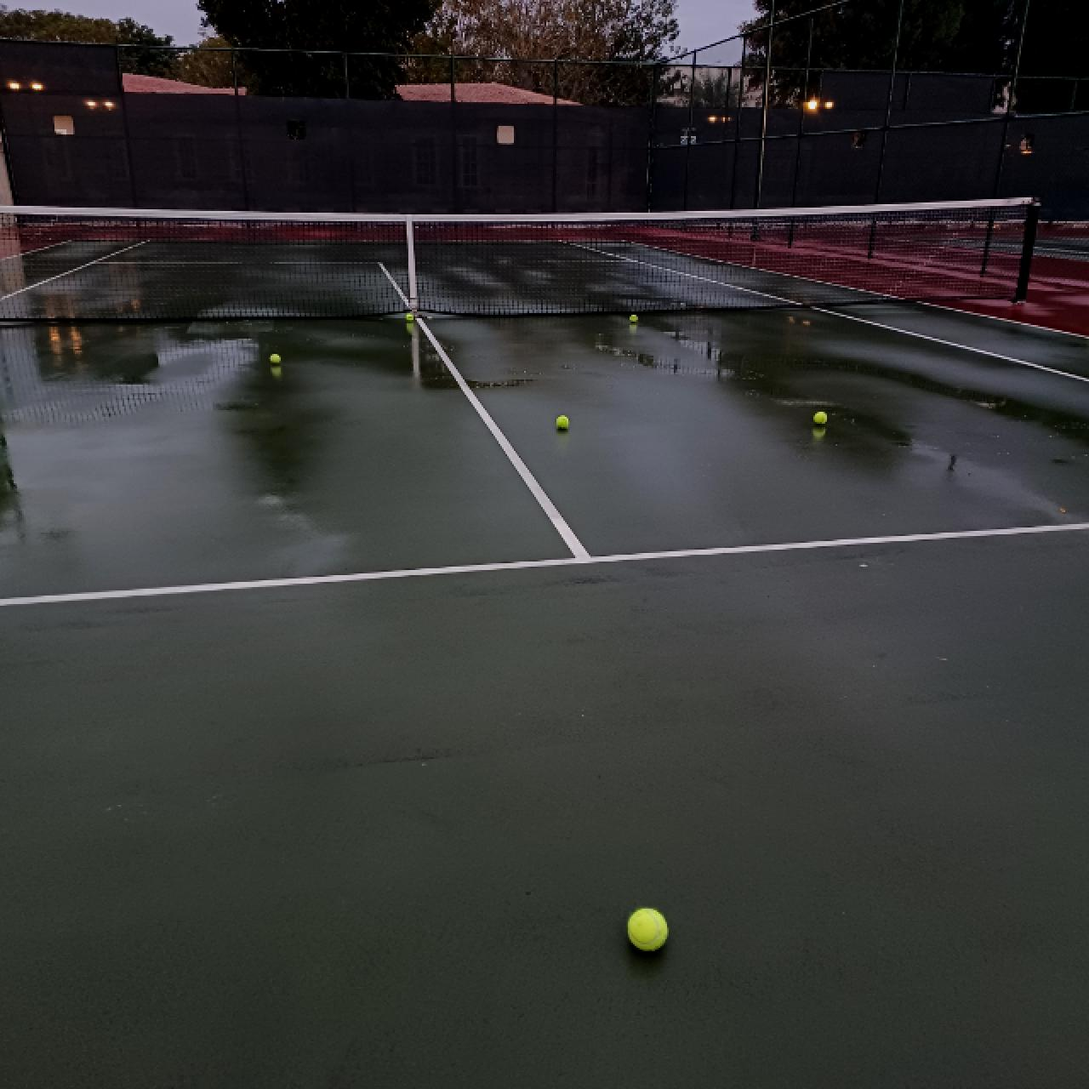tennis-ball: (626, 906, 671, 953), (554, 414, 571, 431), (813, 409, 829, 425), (268, 352, 283, 367), (629, 313, 639, 324), (404, 312, 415, 322)
